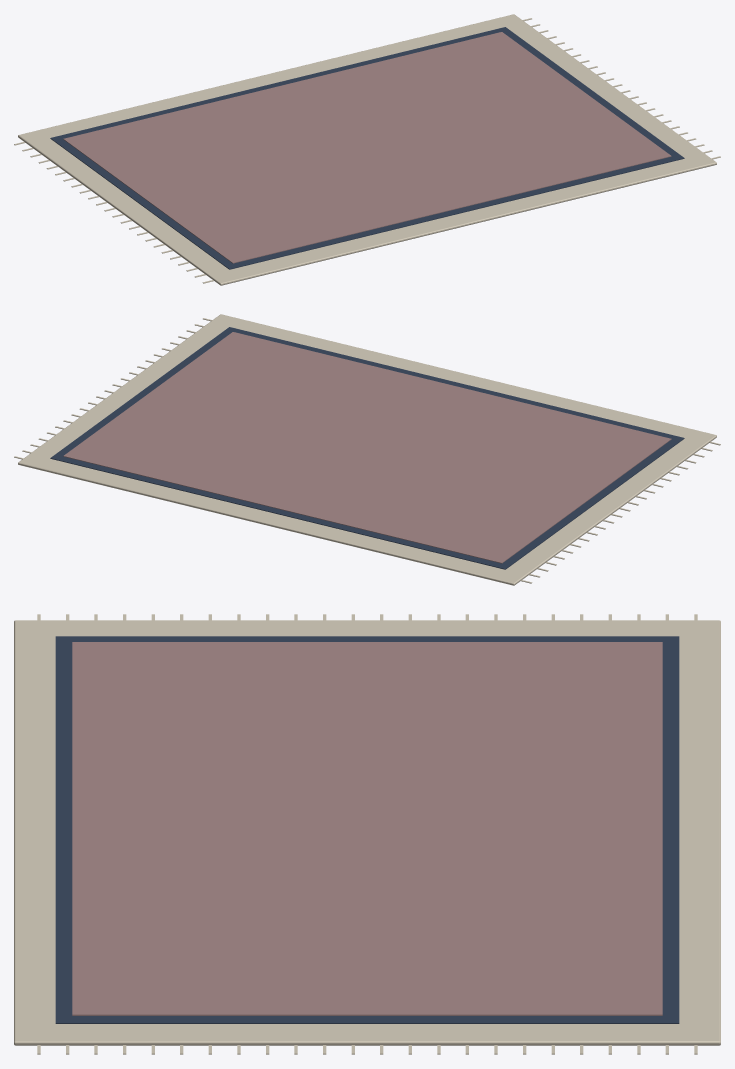
Rendered from rug.fbx.
The picture shows the model from 3 angles, top to bottom: view 1: azimuth 30°, elevation 25°; view 2: azimuth 150°, elevation 25°; view 3: azimuth 270°, elevation 25°; orthographic projection. The views are drawn at different scales.
Parts seen in each view (by area): view 1: rug; view 2: rug; view 3: rug.
Boxes of the visible parts, x1,y1,x2,y2 form: rug: [14, 14, 720, 285]; rug: [14, 314, 720, 585]; rug: [14, 614, 720, 1054].
Bounding box in the file's own units: 2.5 × 1.7 × 0.018.
